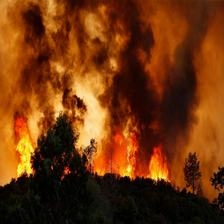fire: (12, 8, 189, 188)
